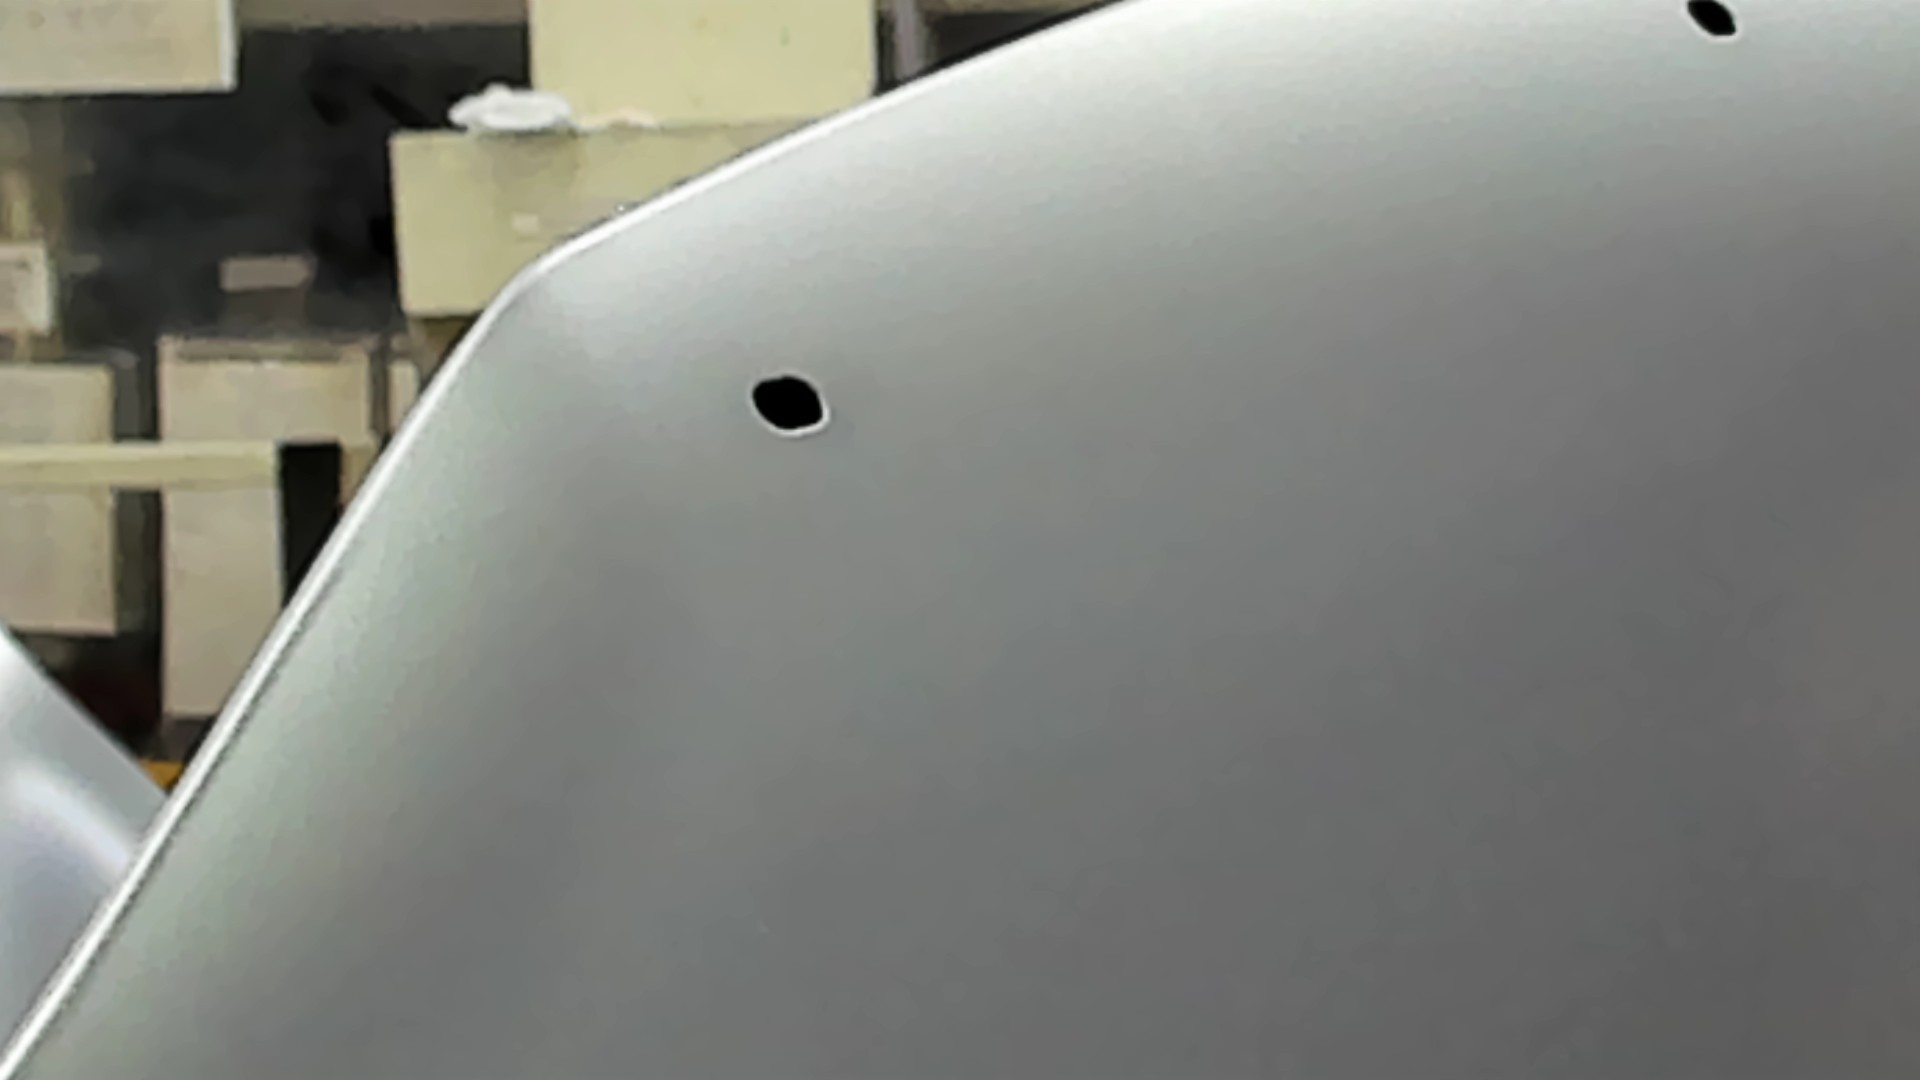amorfo: (742, 363, 829, 438), (1683, 1, 1746, 45)
capo: (930, 116, 1920, 1080)
